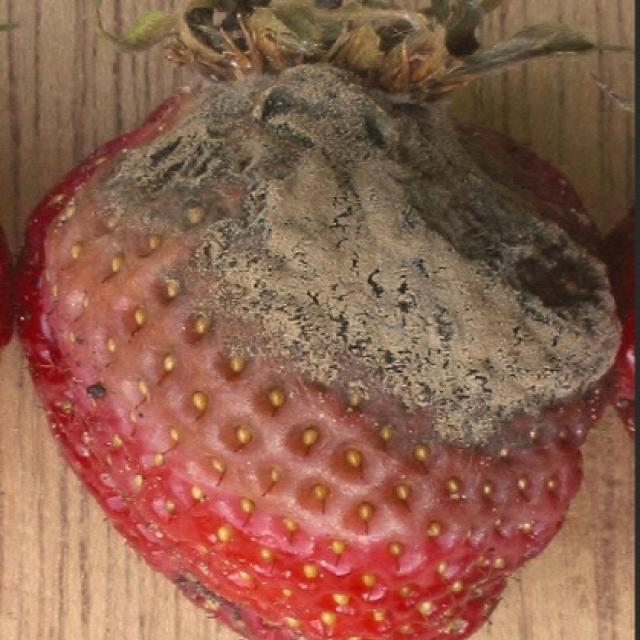Gray Mold: (38, 0, 626, 638)
